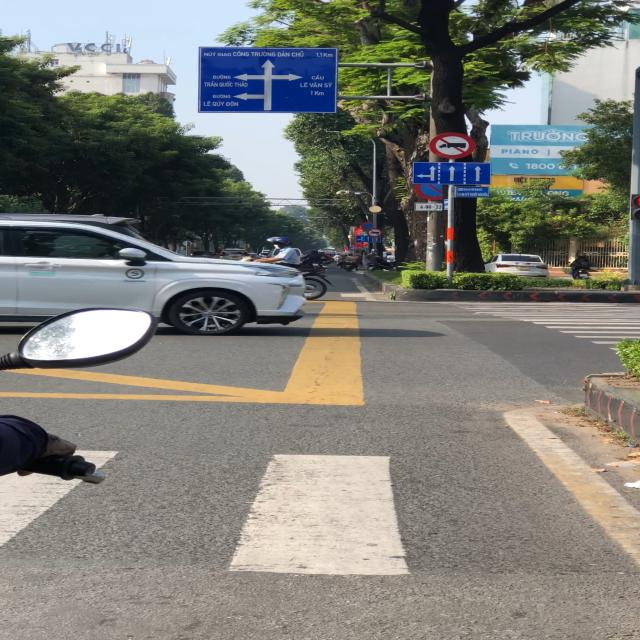Bien bao cam xe so-mi ro-mooc: (427, 129, 481, 160), (364, 227, 384, 238)
